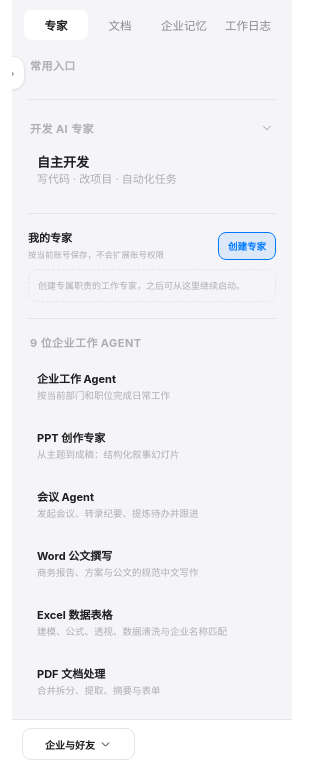
Scenario: RightPanel fixed Agent catalog › loads and displays real enterprise memory entries
This screenshot has width=332, height=768.
# 企业记忆是独立 tab（含知识 / 沿革双视图）
Step 1. Click the tab "企业记忆" → point(184, 25), box [152, 10, 216, 40]
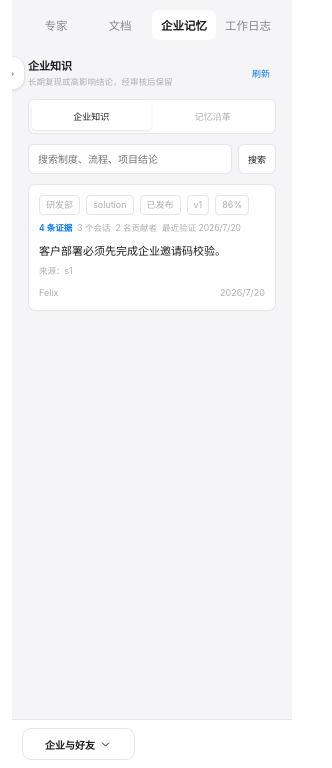
Result: the text "客户部署必须先完成企业邀请码校验。" is shown at [39, 244, 226, 258]
Result: the text "研发部" is shown at [39, 195, 80, 215]
Result: the text "solution" is shown at [86, 195, 134, 215]
